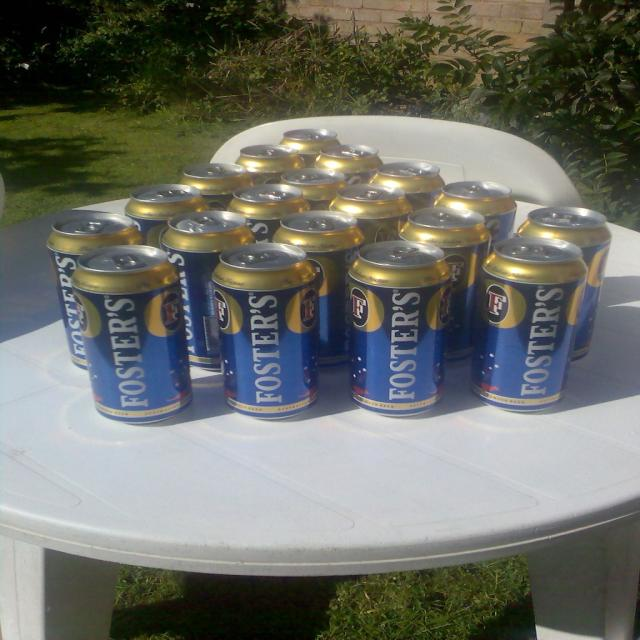fosters: (482, 281, 530, 332), (141, 288, 185, 340), (347, 283, 388, 336), (211, 288, 246, 338), (285, 289, 320, 337), (445, 256, 475, 289)
